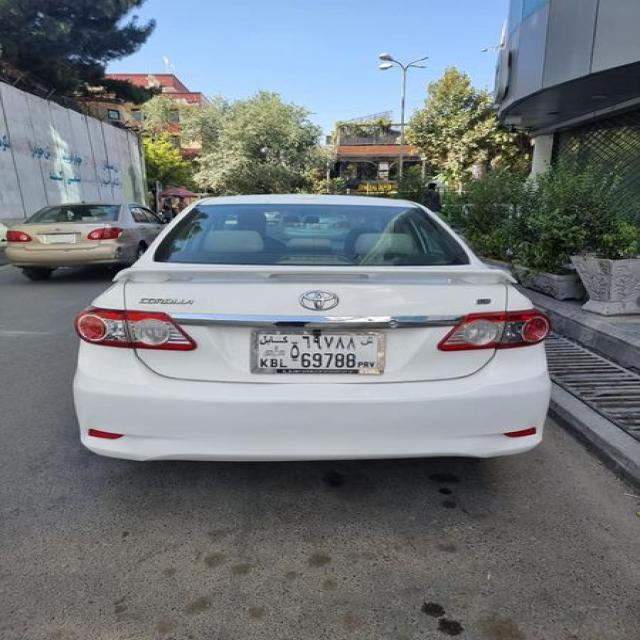Plate: (251, 328, 385, 377)
